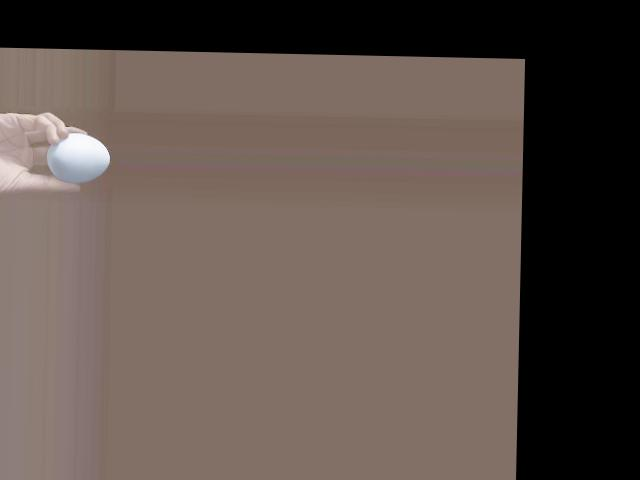egg: (47, 131, 111, 182)
